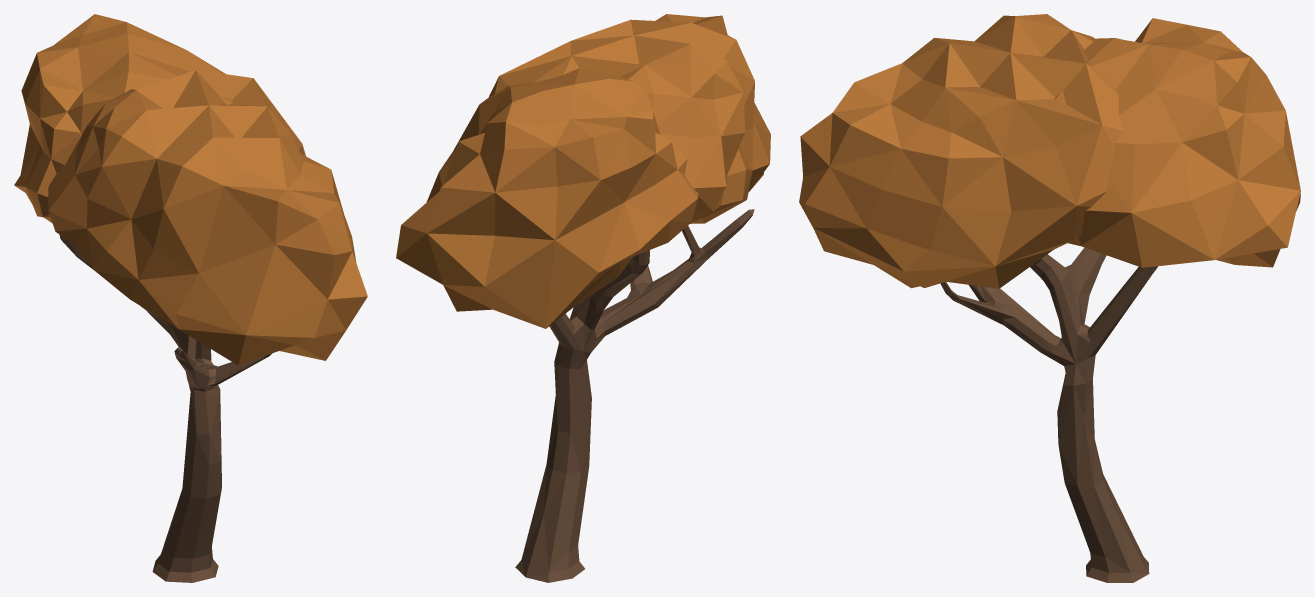
The model's file is CommonTree_Autumn_5.glb.
3 renders of one model, left to right at view 1: azimuth 30°, elevation 25°; view 2: azimuth 150°, elevation 25°; view 3: azimuth 270°, elevation 25°, orthographic. The views are drawn at different scales.
Visible parts, largest first — view 1: CommonTree_Autumn_5; view 2: CommonTree_Autumn_5; view 3: CommonTree_Autumn_5.
Boxes of the visible parts, x1,y1,x2,y2 form: CommonTree_Autumn_5: (14, 14, 367, 582); CommonTree_Autumn_5: (396, 14, 770, 582); CommonTree_Autumn_5: (799, 14, 1300, 582).
Size of the model in its own units: 1.29 by 2.52 by 2.25.
